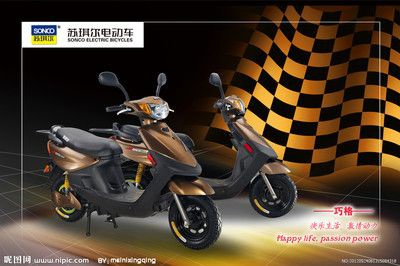non-vehicle: (33, 70, 221, 253), (175, 72, 296, 220)
